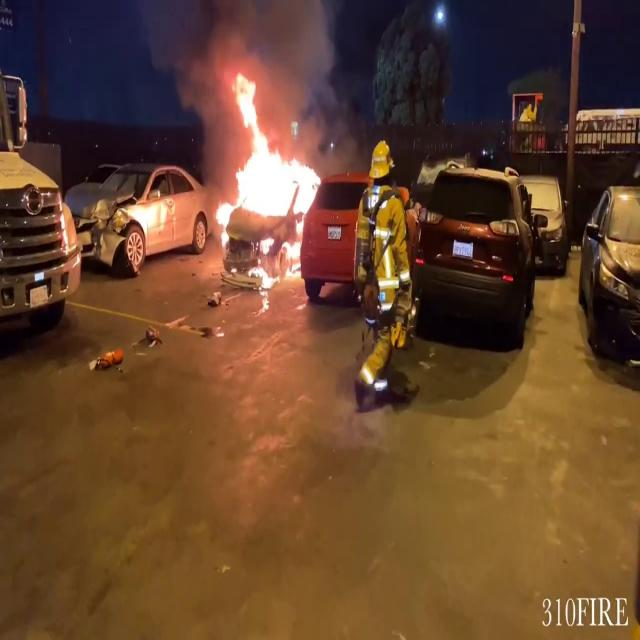Fire: (212, 66, 323, 284)
Smoke: (173, 0, 352, 118)
